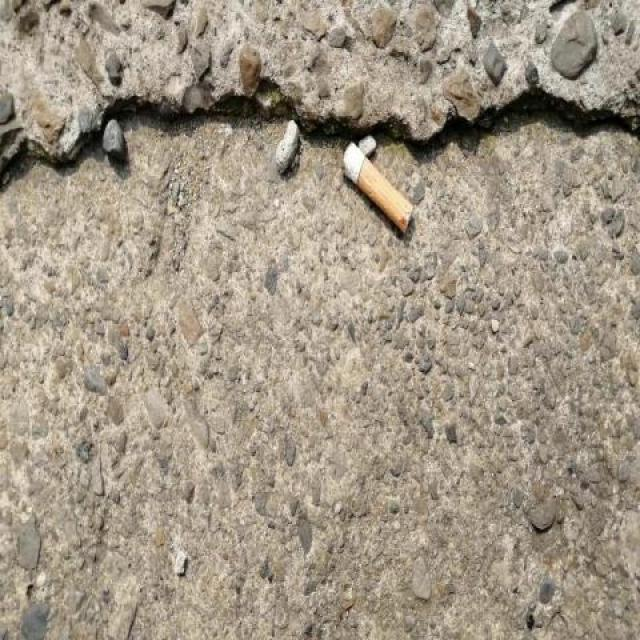non-organic waste: (337, 137, 416, 240)
